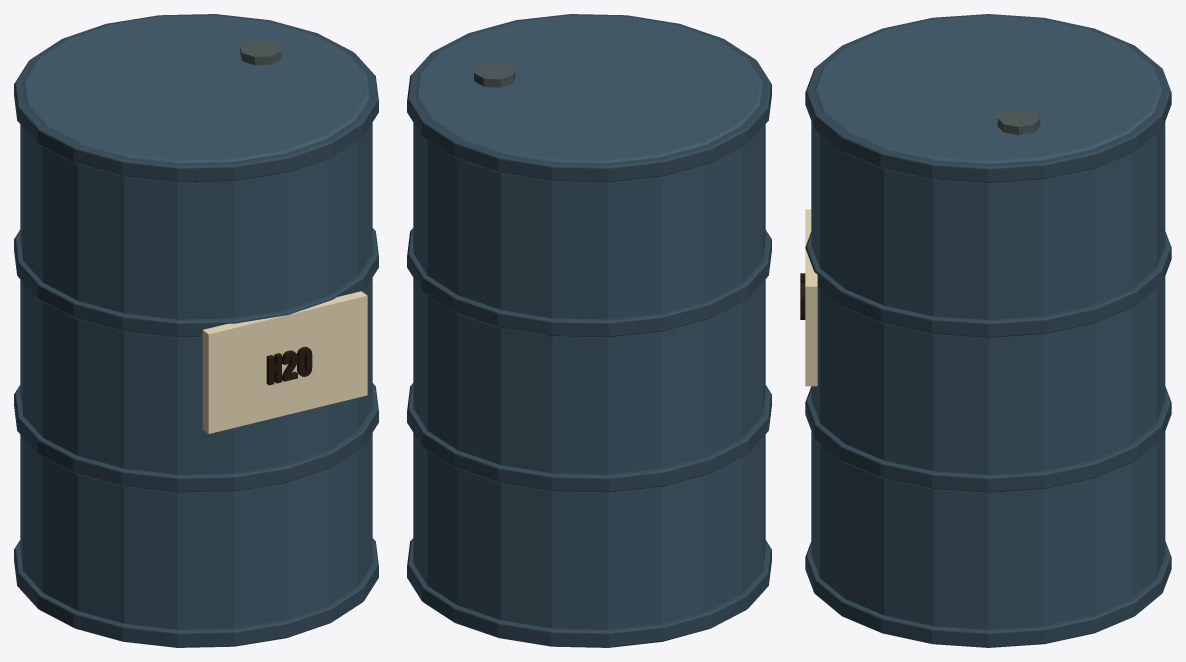
Rendered from WaterDrum.glb.
The picture shows the model from 3 angles, left to right: view 1: azimuth 30°, elevation 25°; view 2: azimuth 150°, elevation 25°; view 3: azimuth 270°, elevation 25°; orthographic projection.
Parts seen in each view (by area): view 1: WaterDrum.001; view 2: WaterDrum.001; view 3: WaterDrum.001.
Part boxes in pixels (x1=…): WaterDrum.001: x1=14, y1=14, x2=378, y2=647; WaterDrum.001: x1=407, y1=14, x2=771, y2=647; WaterDrum.001: x1=800, y1=14, x2=1171, y2=647.
Size of the model in its own units: 0.6 by 0.895 by 0.608.
